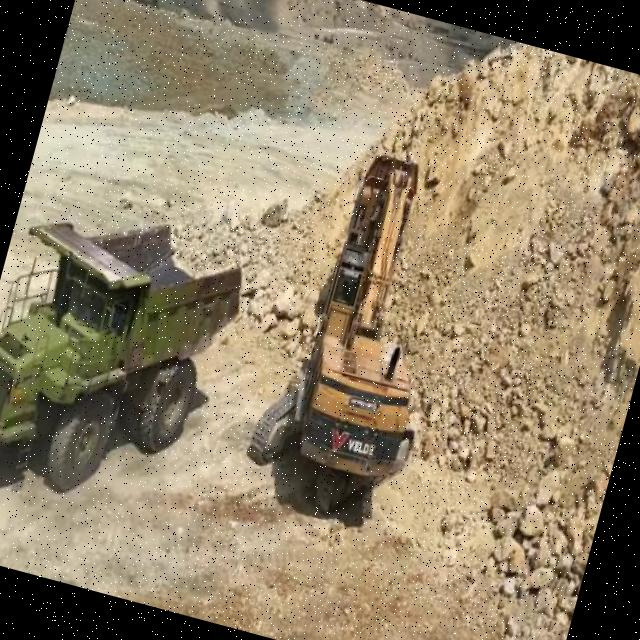Dump Truck: (0, 180, 258, 530)
Excavator: (233, 128, 486, 539)
